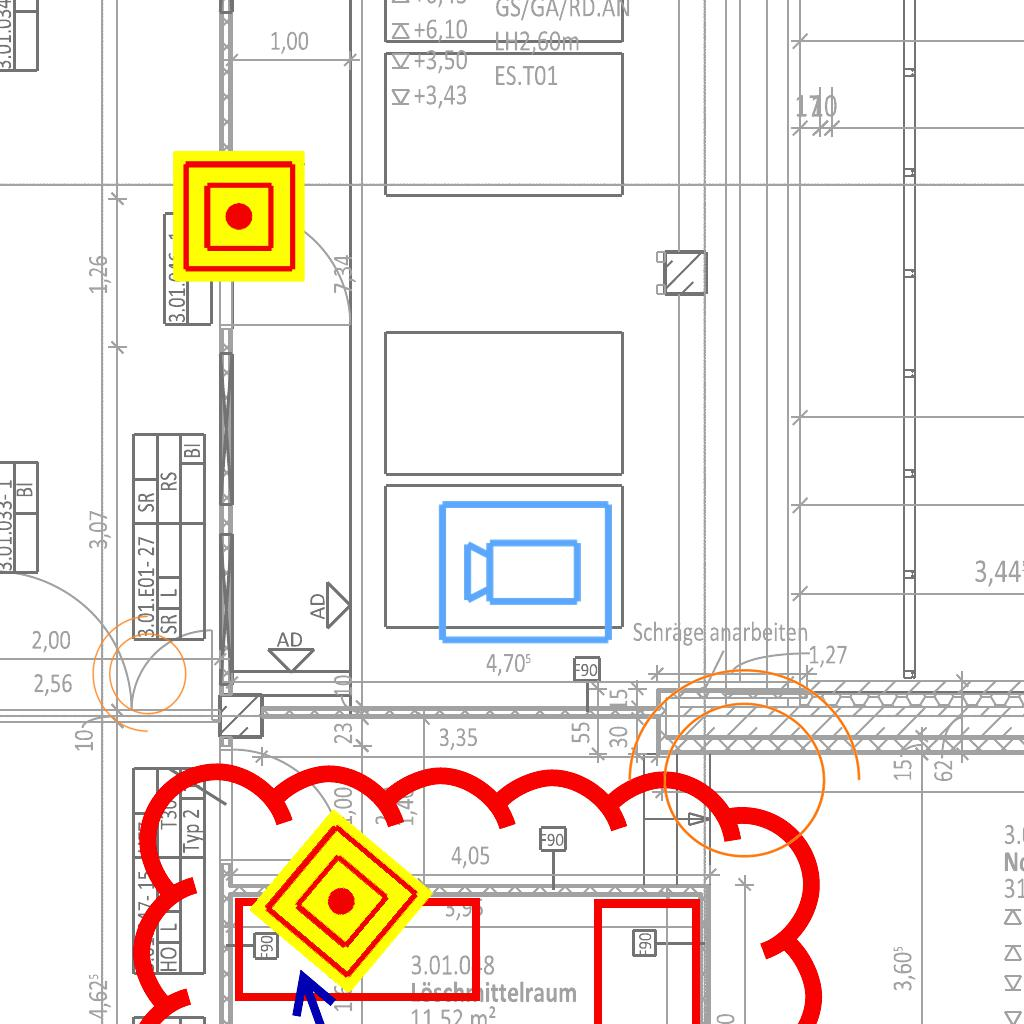KFO_Kamera_mit_Festobjektiv: (435, 494, 617, 648)
NAM-Nichtautomatischer_Melder: (248, 808, 434, 994), (173, 150, 305, 282)
Scheinwerfer_fuer_Alarmbeleuchtung: (606, 658, 870, 883), (87, 611, 199, 743)
